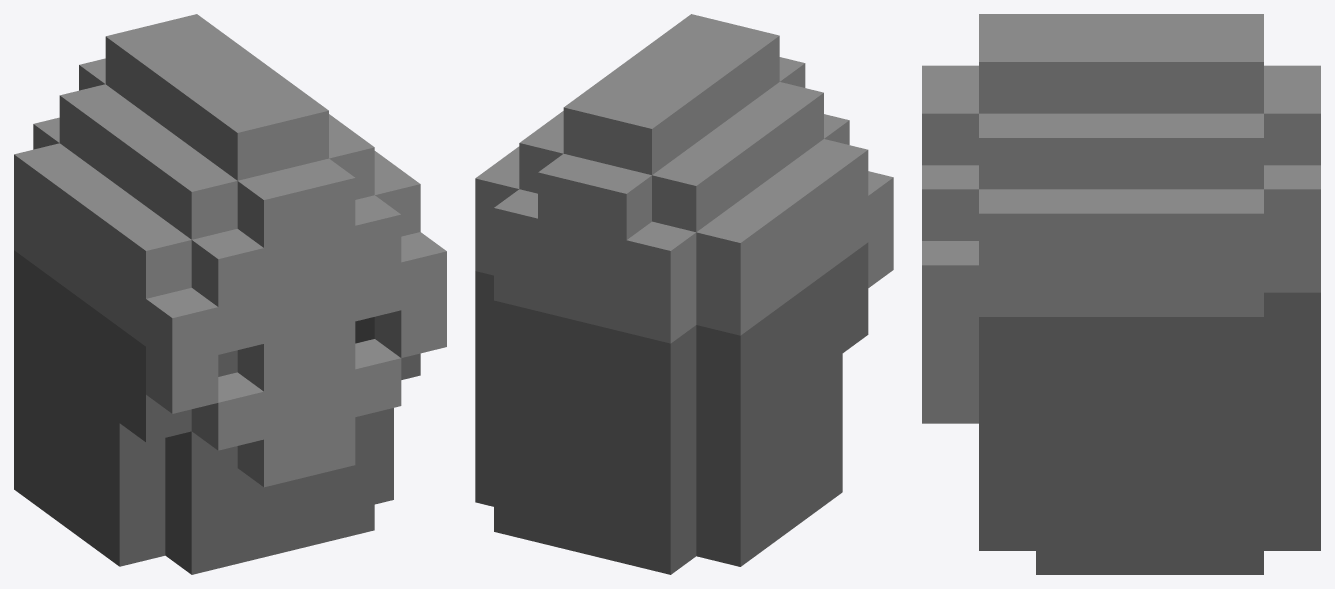
File: humanoid-196-helm_hvy_2b_ja.obj
3 views of the same model, side by side, from view 1: azimuth 30°, elevation 25°; view 2: azimuth 150°, elevation 25°; view 3: azimuth 270°, elevation 25° (orthographic). The views are drawn at different scales.
Parts seen in each view (by area): view 1: helm_hvy_2b_ja; view 2: helm_hvy_2b_ja; view 3: helm_hvy_2b_ja.
Part boxes in pixels (x1,y1,x2,y2): helm_hvy_2b_ja: [14, 14, 446, 574]; helm_hvy_2b_ja: [475, 14, 893, 574]; helm_hvy_2b_ja: [922, 14, 1320, 574].
Size of the model in its own units: 0.6 by 0.9 by 0.7.
Materials: 1 (1 with a texture image).
